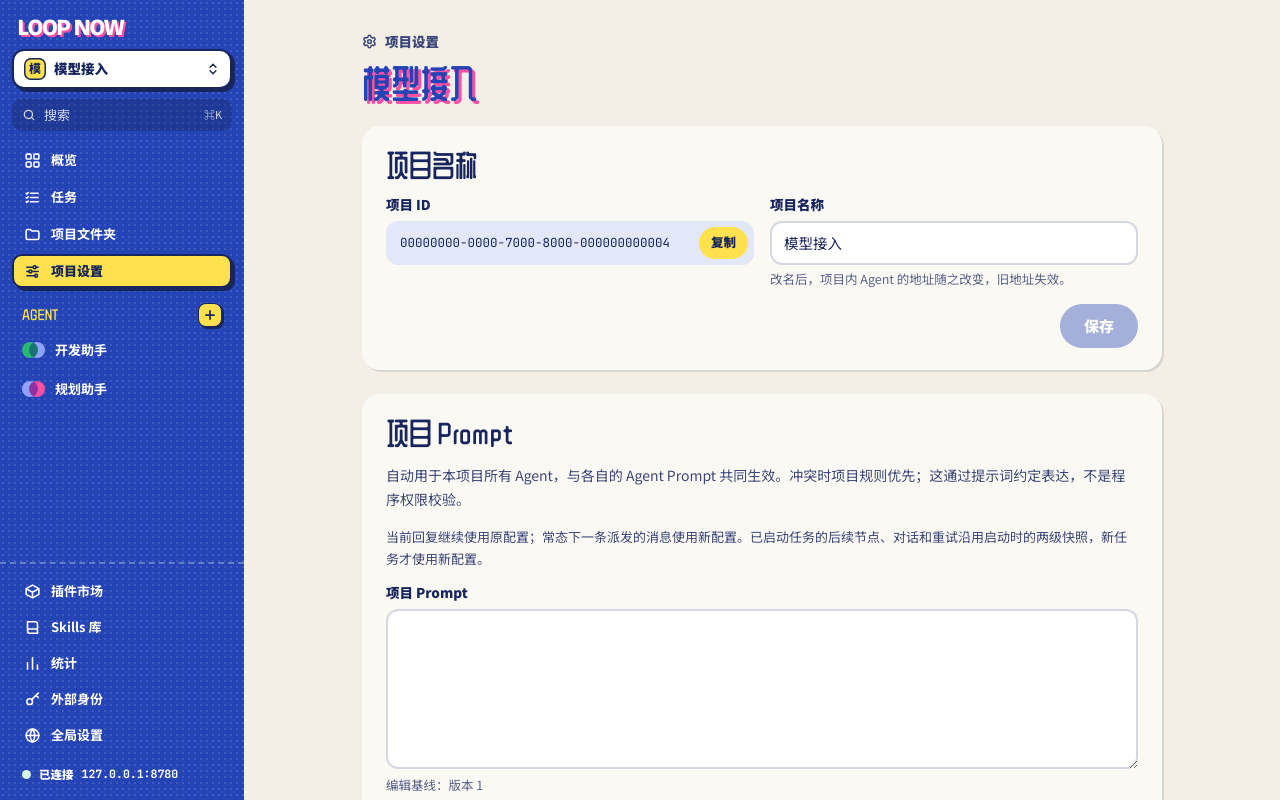
Test: 项目改名 › 改名成功后地址换成新名称，范围切换显示新名称
Replace the text in the field labelled "项目名称" with "模型适配" at (954, 243), box [770,221,1138,265]
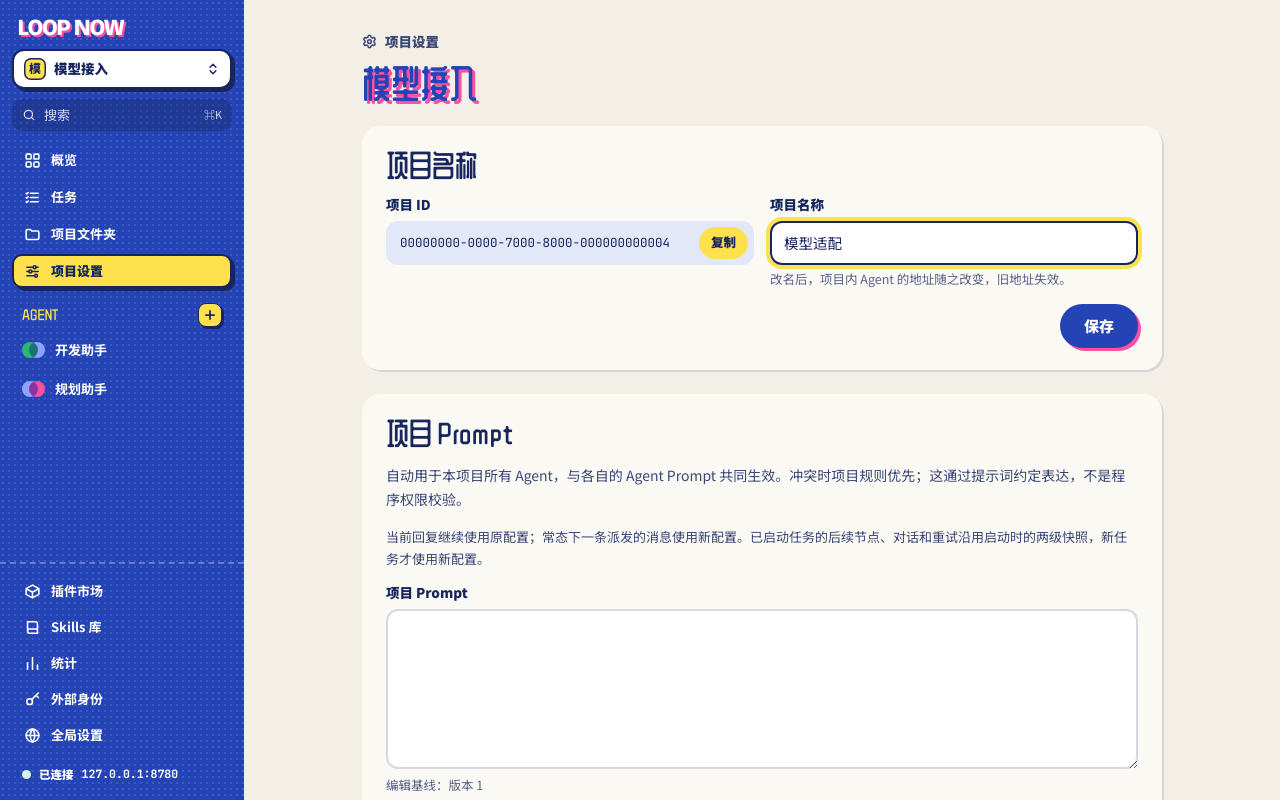
Click the button "保存".
click(1099, 326)  # box [1060,304,1138,348]
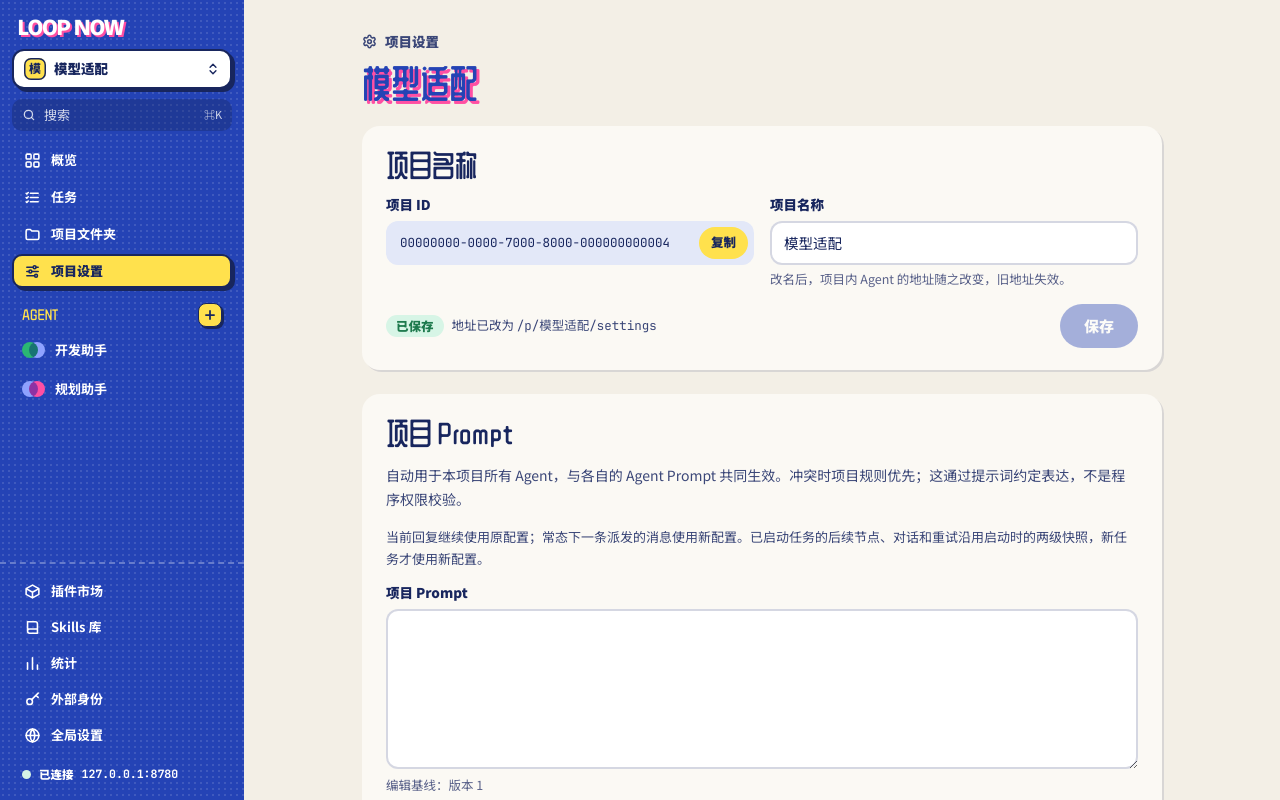
Result: the message "已保存 地址已改为 /p/模型适配/settings" is shown at [386,315,657,337]
